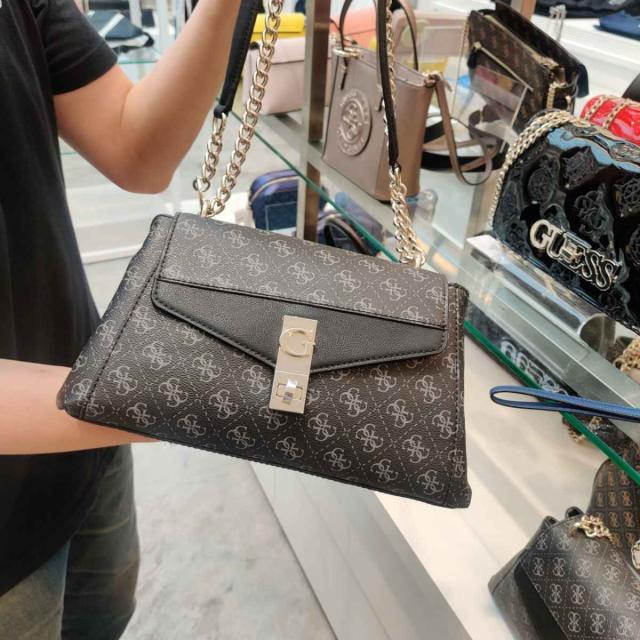Handbag: (48, 0, 484, 517)
